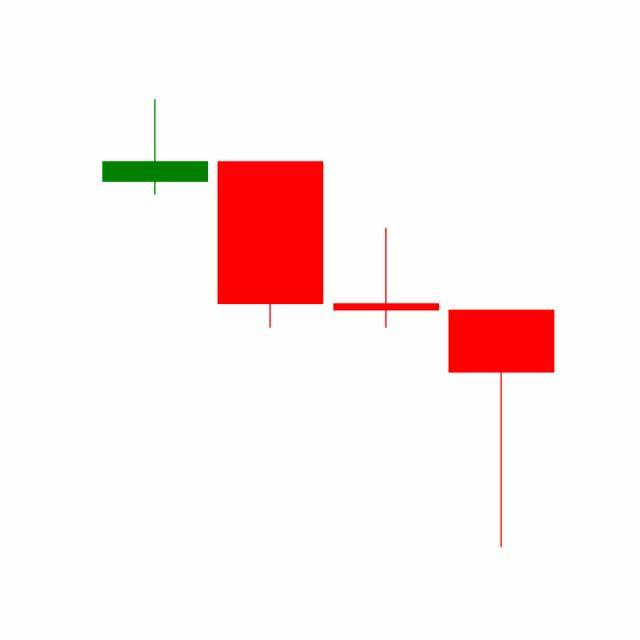Spinning Top: (329, 227, 445, 330)
